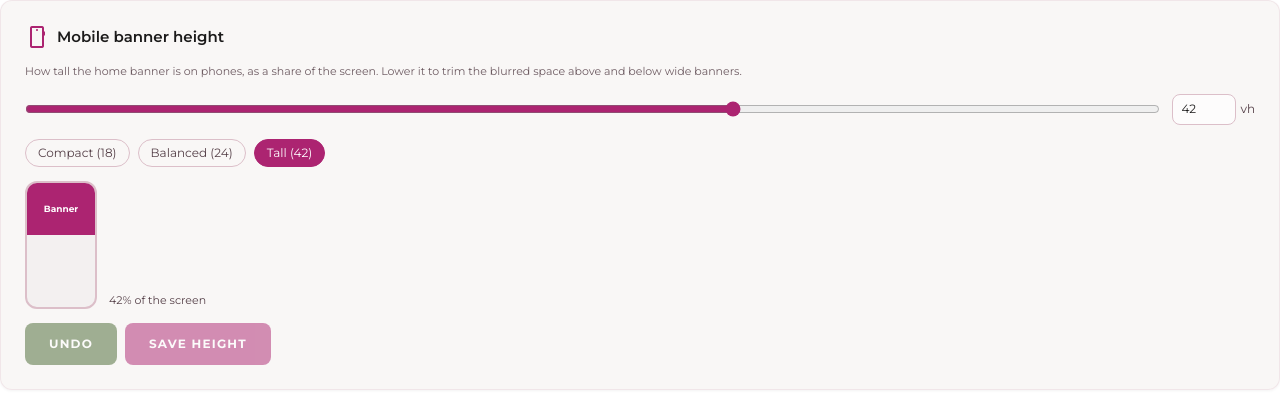
Test case: MobileHeroHeightCard › saves into the latest settings without dropping the other fields, then reports it
Click the button "Balanced (24)".
click(192, 153)  # box x1=138 y1=139 x2=246 y2=167
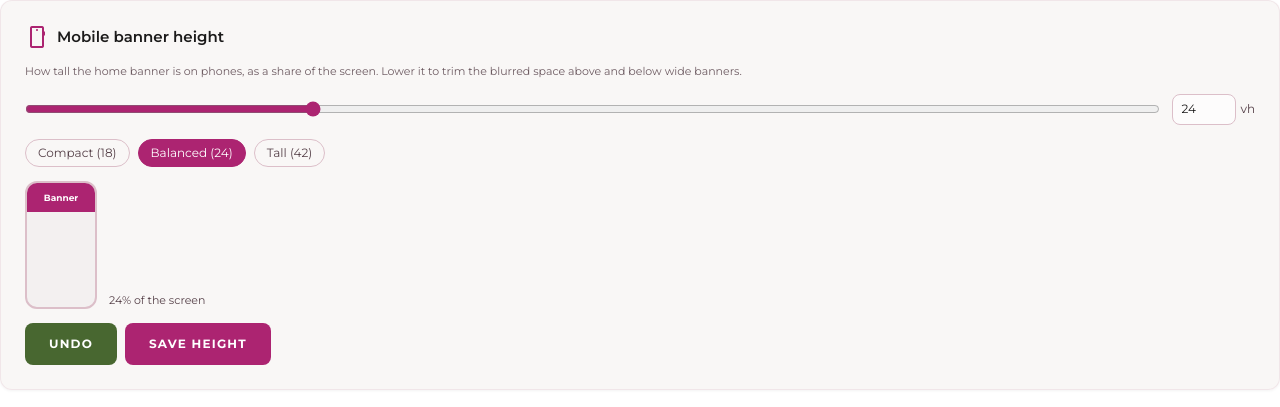
Click the button "Save height".
click(198, 344)  # box x1=125 y1=323 x2=271 y2=365
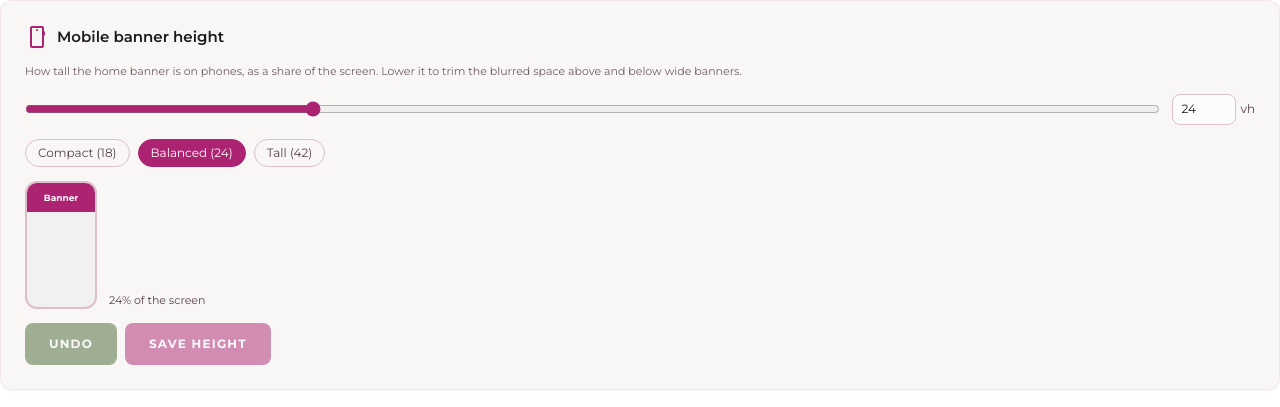
Result: the button "Save height" is disabled at x1=125 y1=323 x2=271 y2=365
